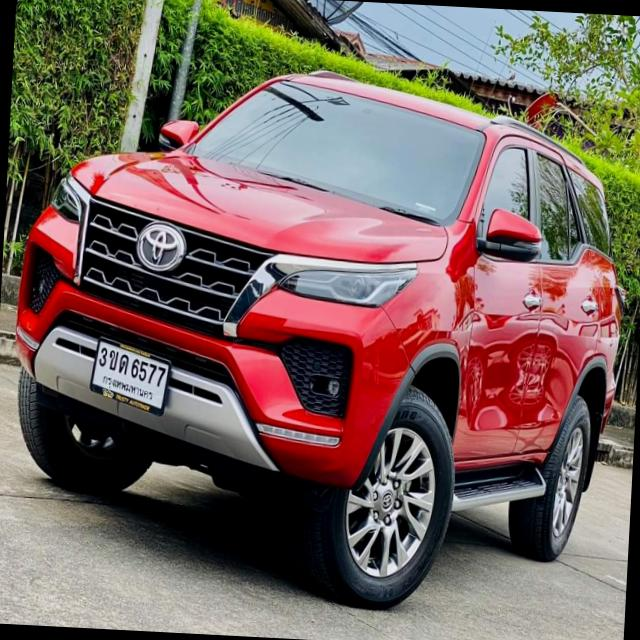license_plate: (88, 334, 178, 419)
